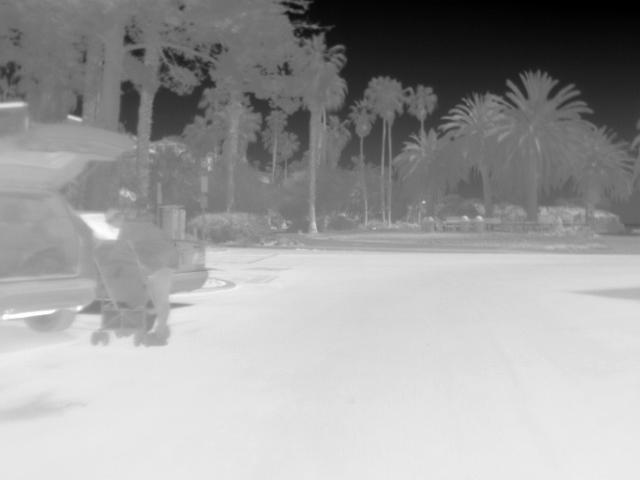car: (3, 121, 138, 335), (170, 238, 208, 294), (76, 207, 122, 241)
person: (105, 207, 182, 346)
